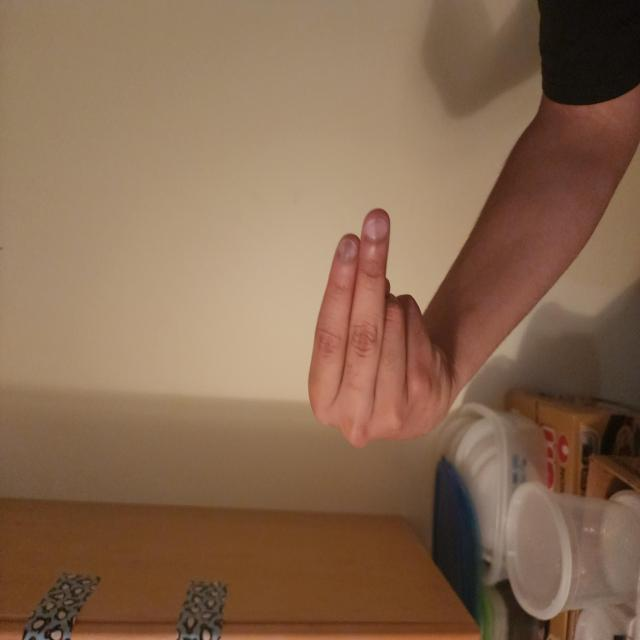H: (136, 412, 328, 610)
